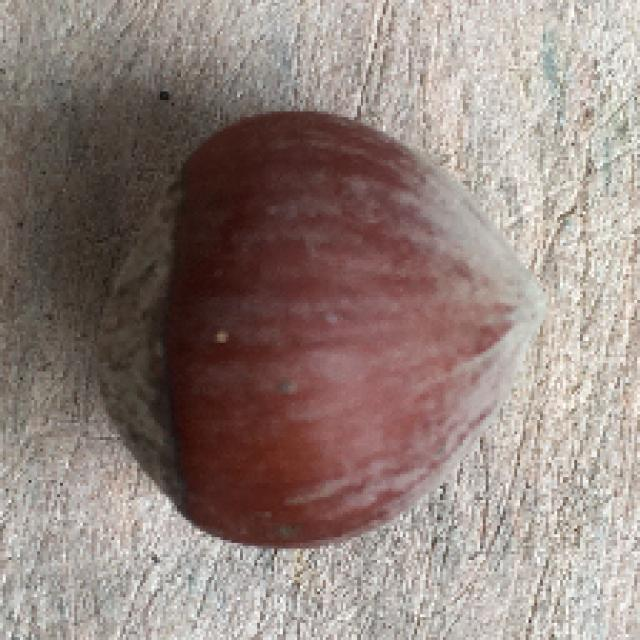qualityHazelnut: (86, 100, 551, 564)
